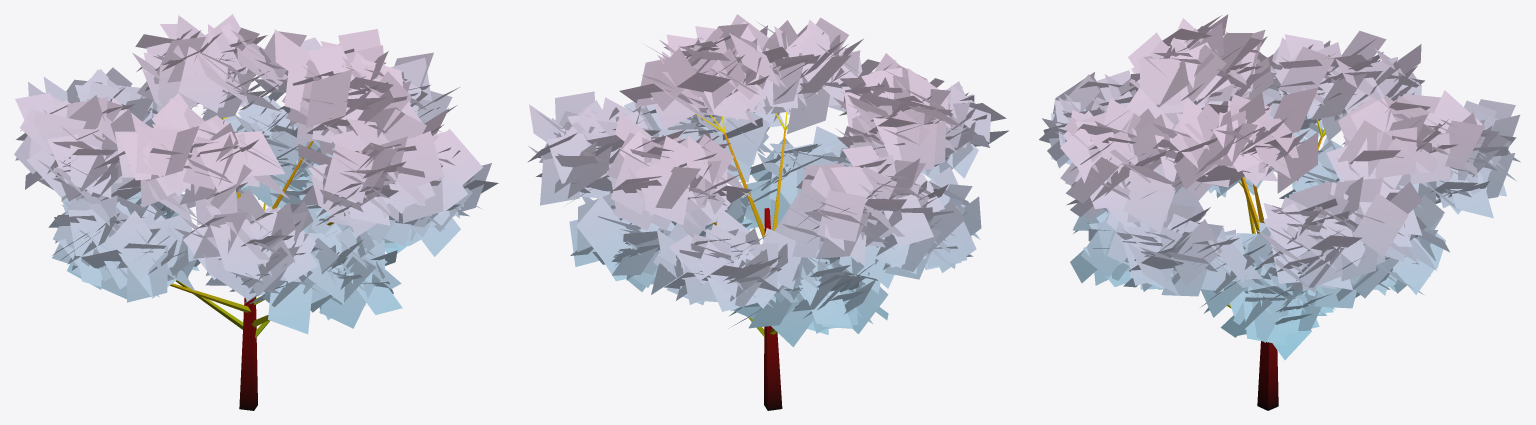
Rendered from oak-lod1.glb.
The picture shows the model from 3 angles, left to right: view 1: azimuth 30°, elevation 25°; view 2: azimuth 150°, elevation 25°; view 3: azimuth 270°, elevation 25°; orthographic projection.
Parts seen in each view (by area): view 1: oak canopy, oak trunk and branches; view 2: oak canopy, oak trunk and branches; view 3: oak canopy, oak trunk and branches.
Boxes of the visible parts, x1,y1,x2,y2 form: oak canopy: [14, 14, 498, 334]; oak trunk and branches: [170, 117, 333, 410]; oak canopy: [527, 14, 1008, 347]; oak trunk and branches: [696, 108, 852, 410]; oak canopy: [1039, 14, 1520, 360]; oak trunk and branches: [1227, 119, 1325, 410].
Bounding box in the file's own units: 14.24 × 11.36 × 14.46.
